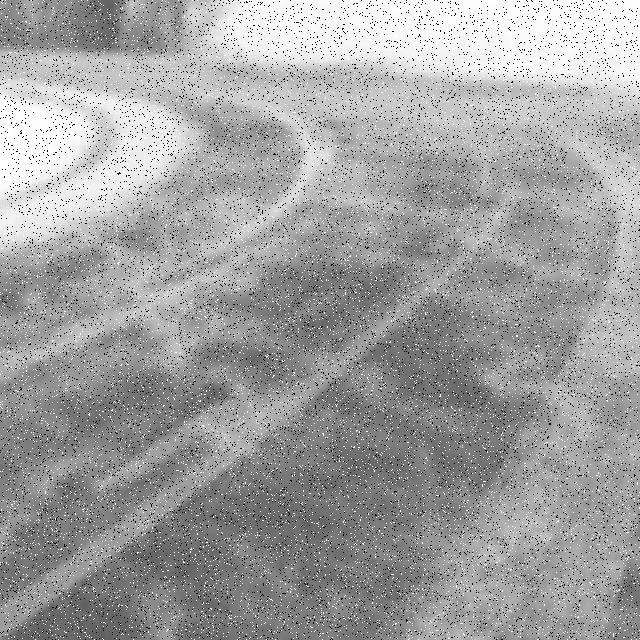ice-road: (0, 61, 640, 640)
